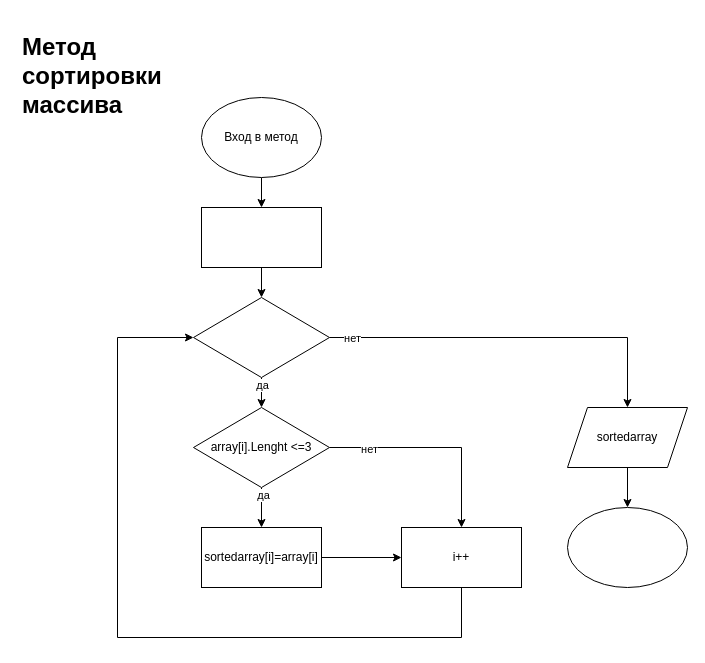
The diagram is 705 pixels wide and 663 high, and some of its shapes have lost their labels. The centre of each missing label's shape, as x and y in pixels:
i < array.Lenght: the point at 261,337
int size string[] sortedarray: the point at 261,237
выход из метода: the point at 627,547
